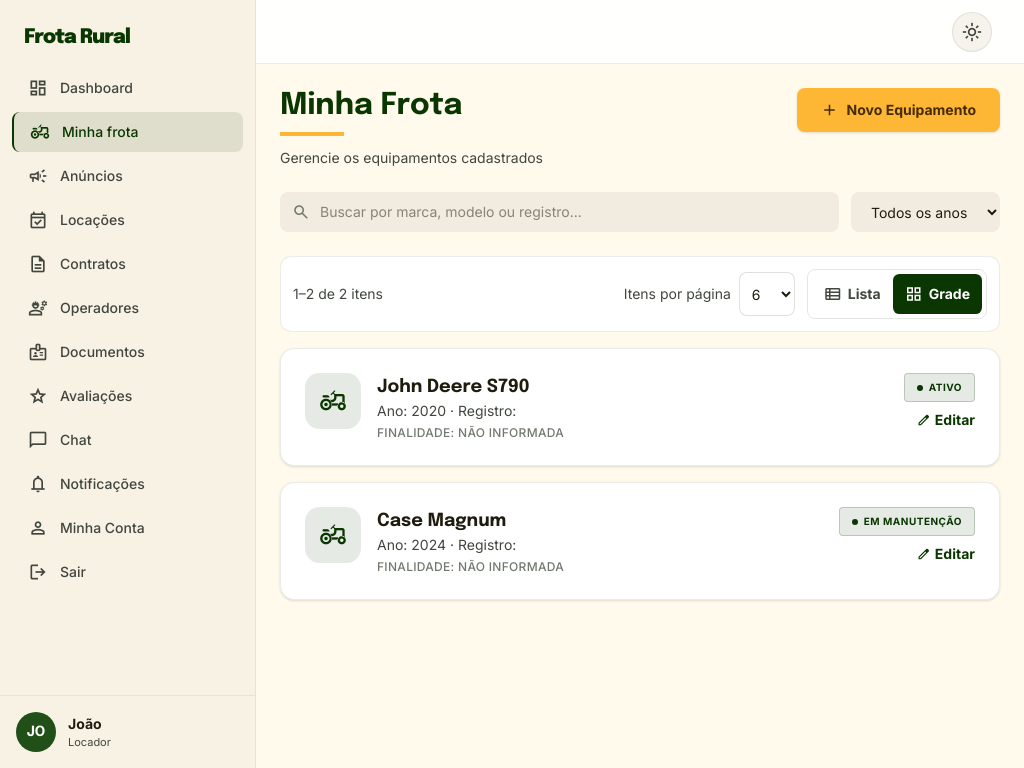
Test: filters fleet by actual machine year and text
Type "case" into the field with placeholder "Buscar por marca, modelo ou registro...". click: (560, 212)
box: [280,192,839,232]
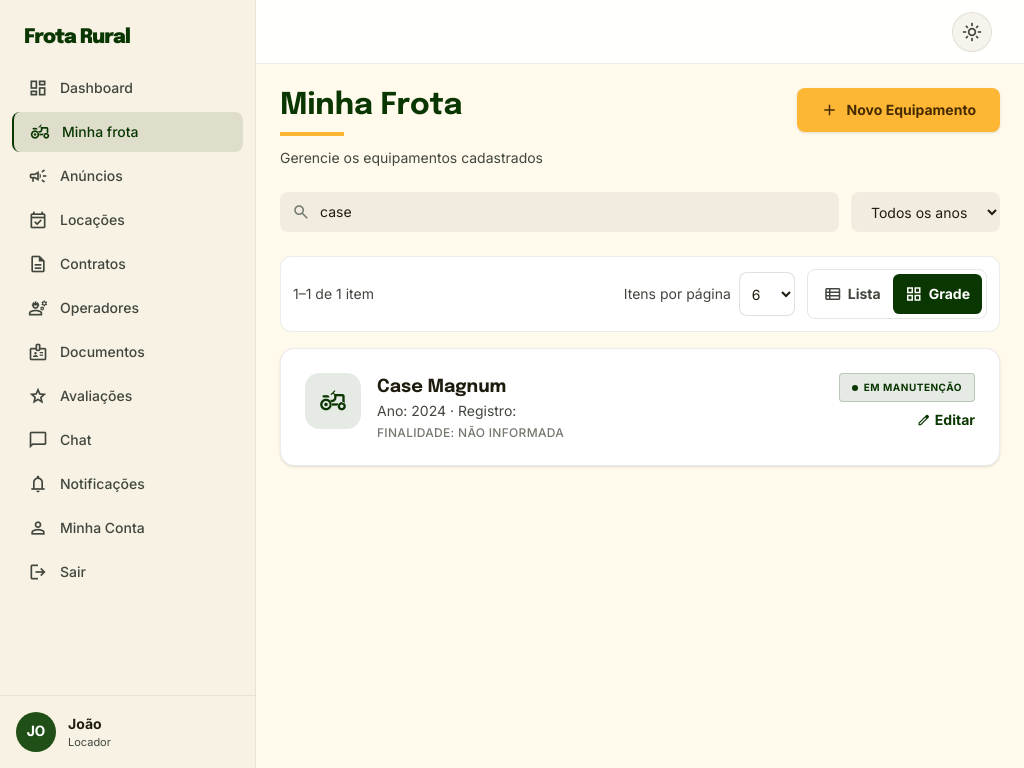
Expected: the heading "Case Magnum" is shown, [377,378,506,396]
Expected: the heading "John Deere S790" is gone
Clear the field with placeholder "Buscar por marca, modelo ou registro...". click: (560, 212)
box: [280,192,839,232]
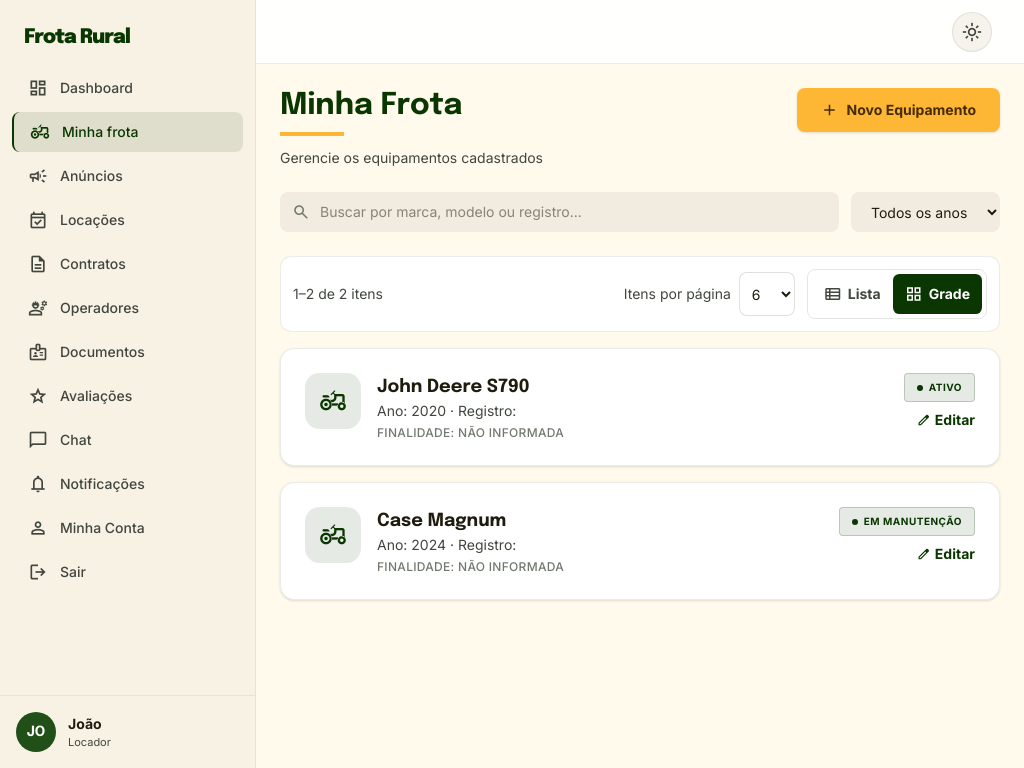
Select "2020" in the dropdown named "Ano". click: (926, 212)
box: [851,192,1000,232]
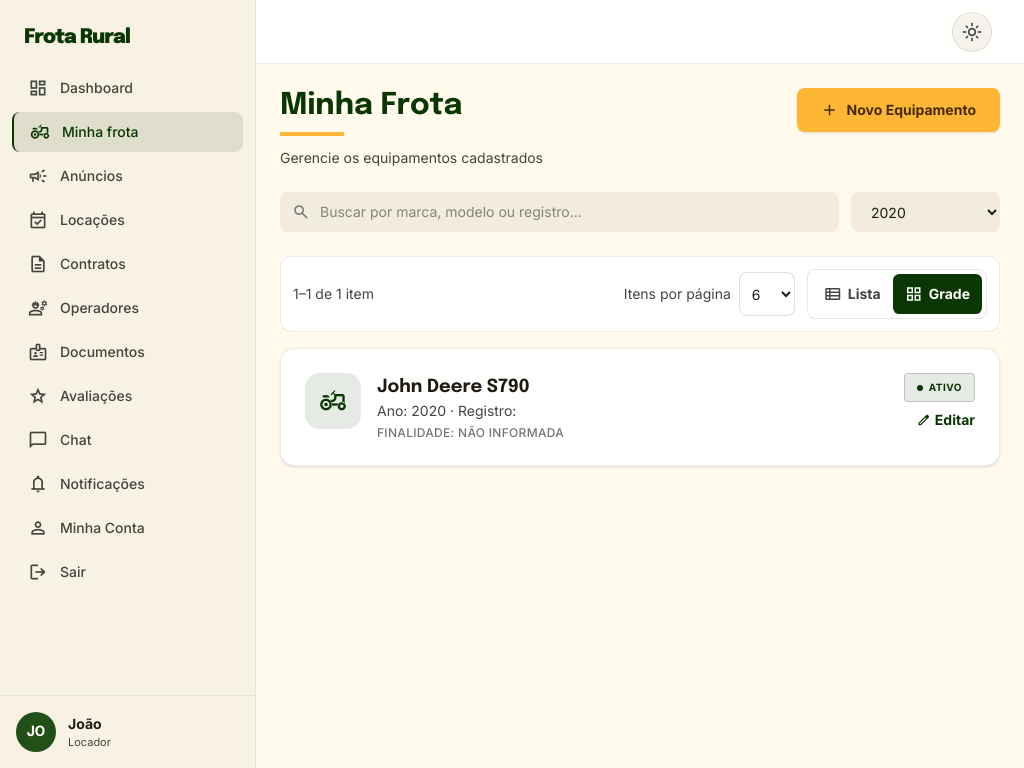
Expected: the heading "John Deere S790" is shown, [377,378,530,396]
Expected: the heading "Case Magnum" is gone
